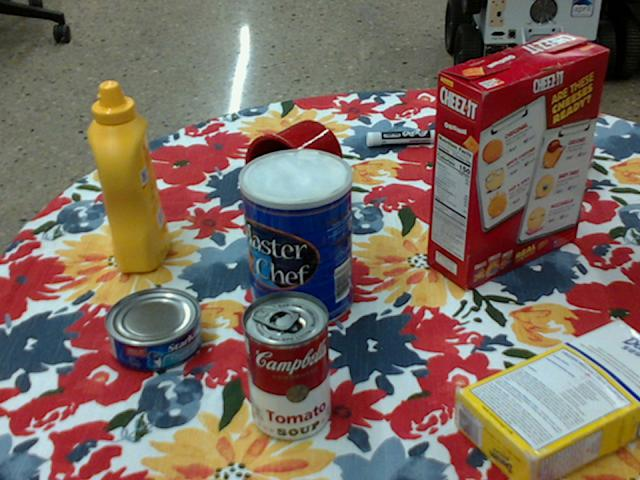cracker_box: (430, 34, 608, 290)
gelatin_box: (518, 136, 592, 194)
large_marker: (366, 127, 459, 145)
master_chef_can: (238, 148, 351, 330)
mug: (243, 120, 341, 213)
mustard_bottle: (88, 83, 170, 273)
sugar_box: (455, 318, 639, 479)
tomato_soup_can: (240, 291, 329, 440)
tuna_fish_can: (104, 286, 201, 369)
